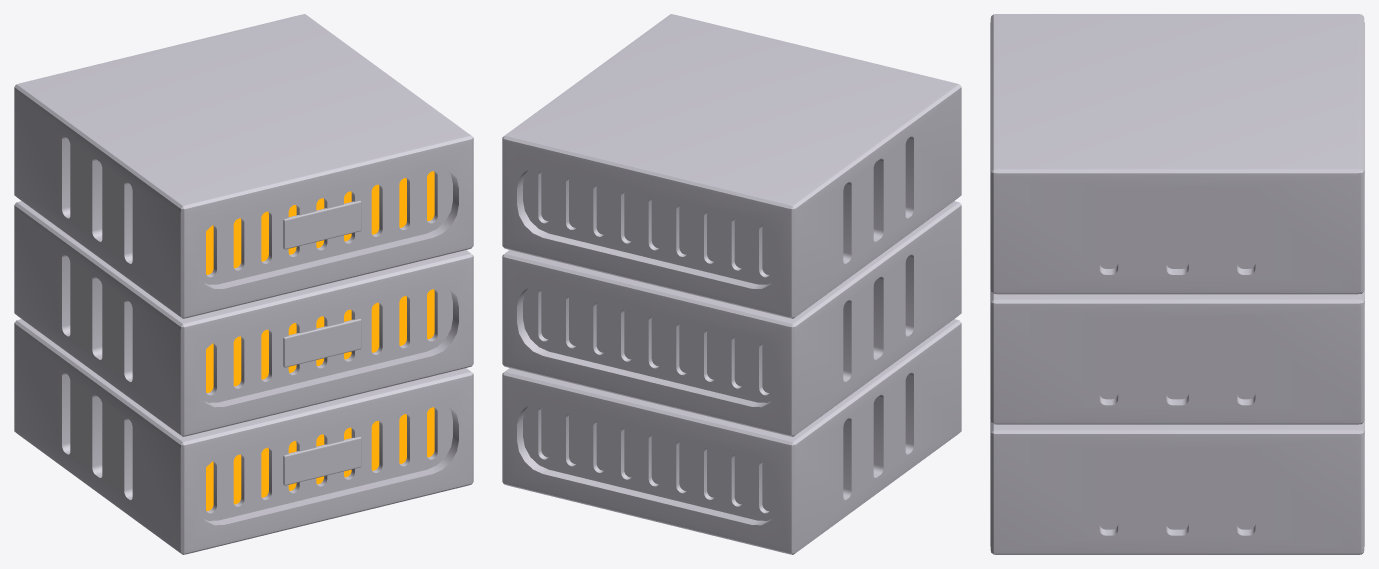
Rendered from server1.glb.
The picture shows the model from 3 angles, left to right: view 1: azimuth 30°, elevation 25°; view 2: azimuth 150°, elevation 25°; view 3: azimuth 270°, elevation 25°; orthographic projection. The views are drawn at different scales.
Parts seen in each view (by area): view 1: server1; view 2: server1; view 3: server1.
Boxes of the visible parts, <box> form: server1: <box>14,14,473,554</box>; server1: <box>502,14,961,554</box>; server1: <box>990,14,1364,554</box>.
Bounding box in the file's own units: 13.01 × 14.81 × 13.01.
